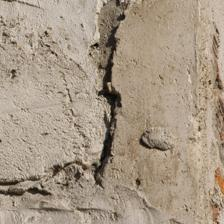Crack: (94, 3, 133, 184), (5, 157, 92, 204)
